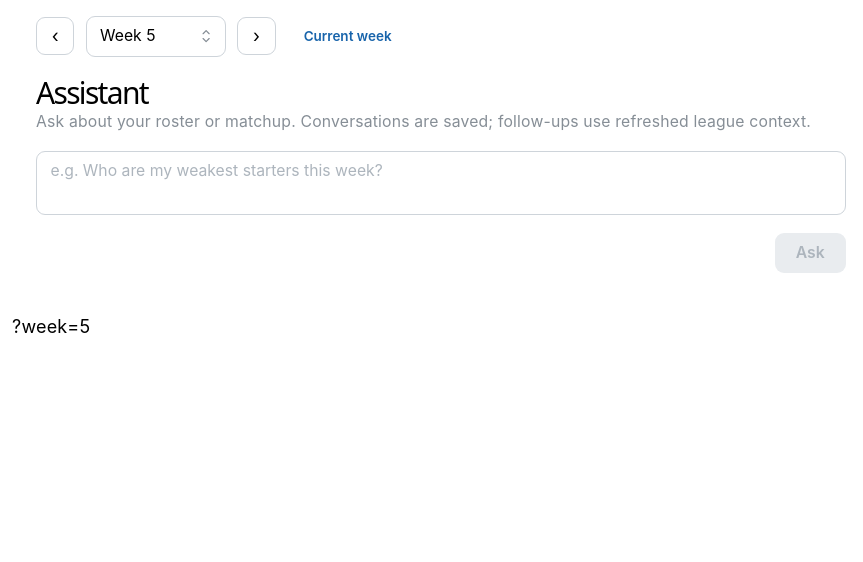
shows other errors on the turn that failed
Type "Anything?" into the text box named "question".
click(441, 183); type("Anything?")  # box [36,151,846,214]
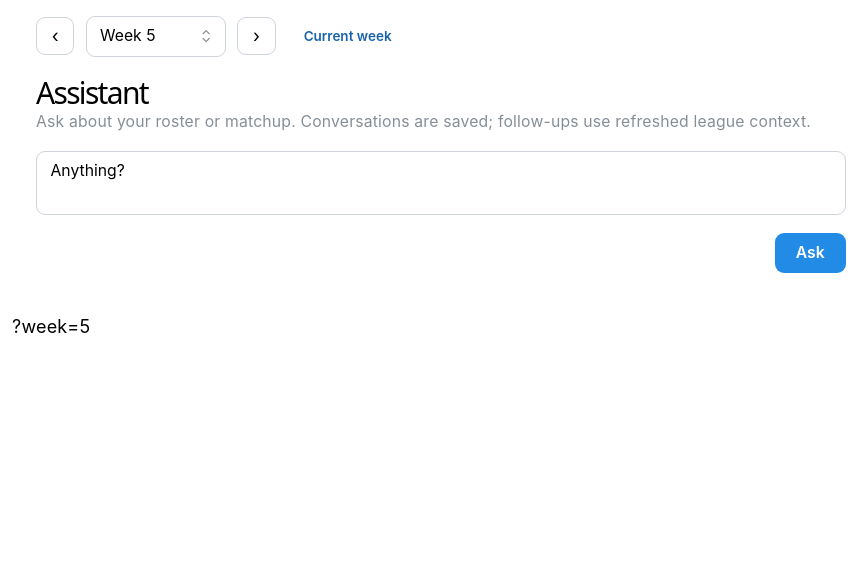
Click the button "Ask".
click(810, 253)  # box [774,232,846,273]
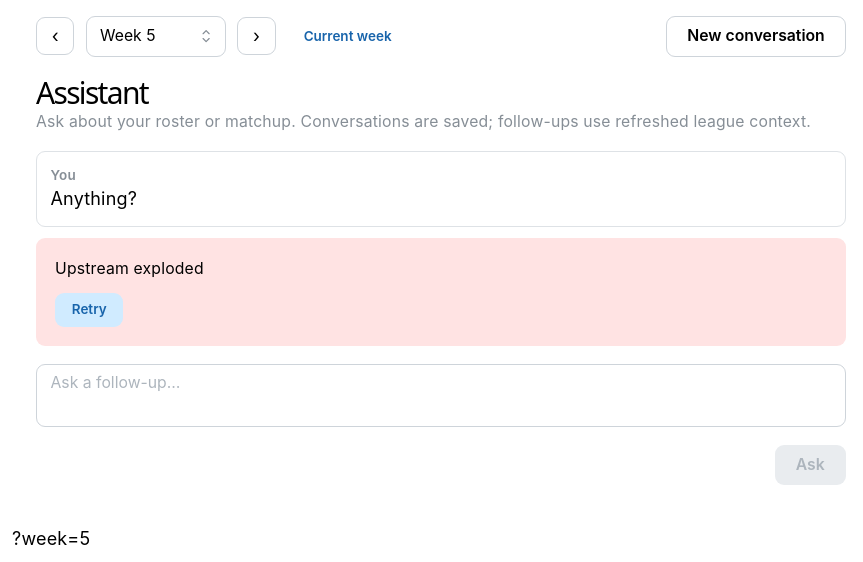
Expected: the text "Upstream exploded" is shown, [55,259,204,278]
Expected: the text "Anything?" is shown, [50,188,137,209]
